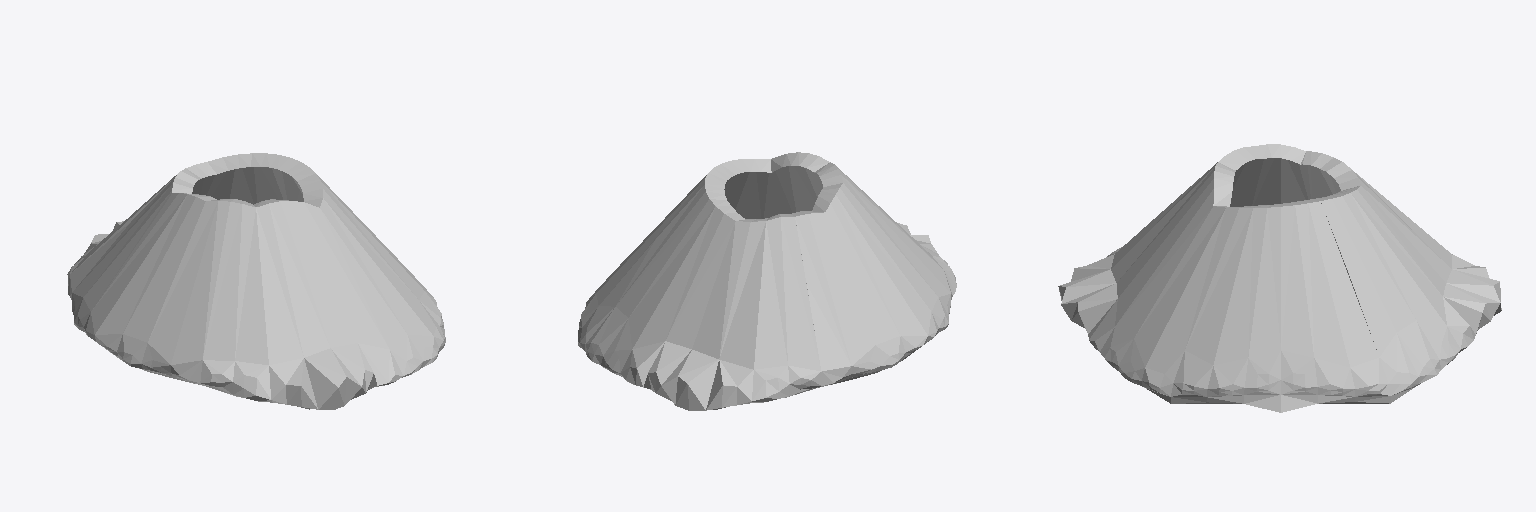
File: volcanov3.obj
3 renders of one model, left to right at view 1: azimuth 30°, elevation 25°; view 2: azimuth 150°, elevation 25°; view 3: azimuth 270°, elevation 25°, orthographic.
Visible parts, largest first — view 1: Cone; view 2: Cone; view 3: Cone.
Part boxes in pixels (left/top/right/bottom): Cone: left=67, top=153, right=445, bottom=409; Cone: left=578, top=152, right=956, bottom=410; Cone: left=1058, top=144, right=1501, bottom=412.
Bounding box in the file's own units: 7.46 × 3.64 × 8.88.